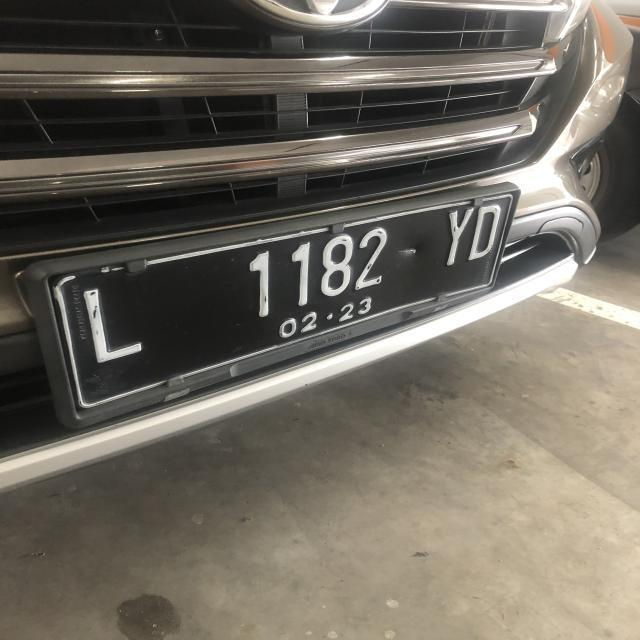1: (240, 249, 280, 319), (284, 240, 316, 308)
2: (355, 228, 387, 296)
8: (317, 232, 352, 296)
D: (468, 202, 506, 262)
L: (76, 280, 146, 369)
Y: (442, 203, 474, 265)
